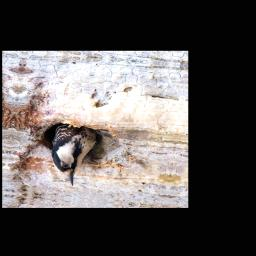Woodpecker: (43, 124, 101, 187)
